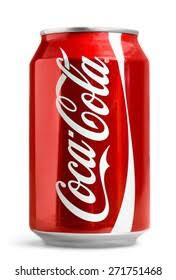can: (25, 25, 153, 249)
